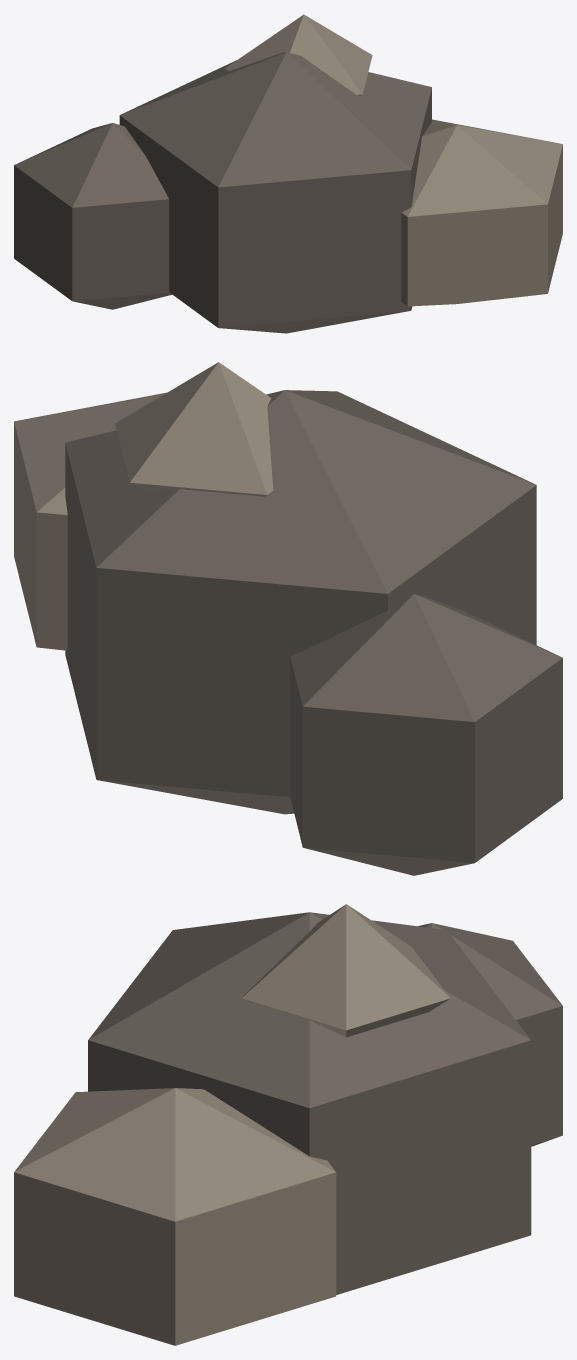
Rendered from roca_costera.obj.
The picture shows the model from 3 angles, top to bottom: view 1: azimuth 30°, elevation 25°; view 2: azimuth 150°, elevation 25°; view 3: azimuth 270°, elevation 25°; orthographic projection. The views are drawn at different scales.
Parts seen in each view (by area): view 1: roca_costera; view 2: roca_costera; view 3: roca_costera.
Boxes of the visible parts, x1=… form: roca_costera: x1=14, y1=14, x2=562, y2=333; roca_costera: x1=14, y1=362, x2=562, y2=875; roca_costera: x1=14, y1=904, x2=562, y2=1345.
Bounding box in the file's own units: 5.6 × 3.78 × 4.49.
